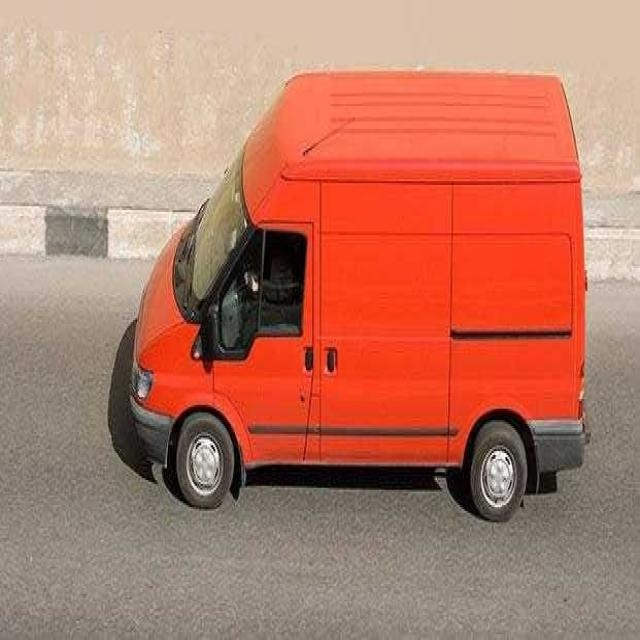Van: (128, 72, 588, 527)
